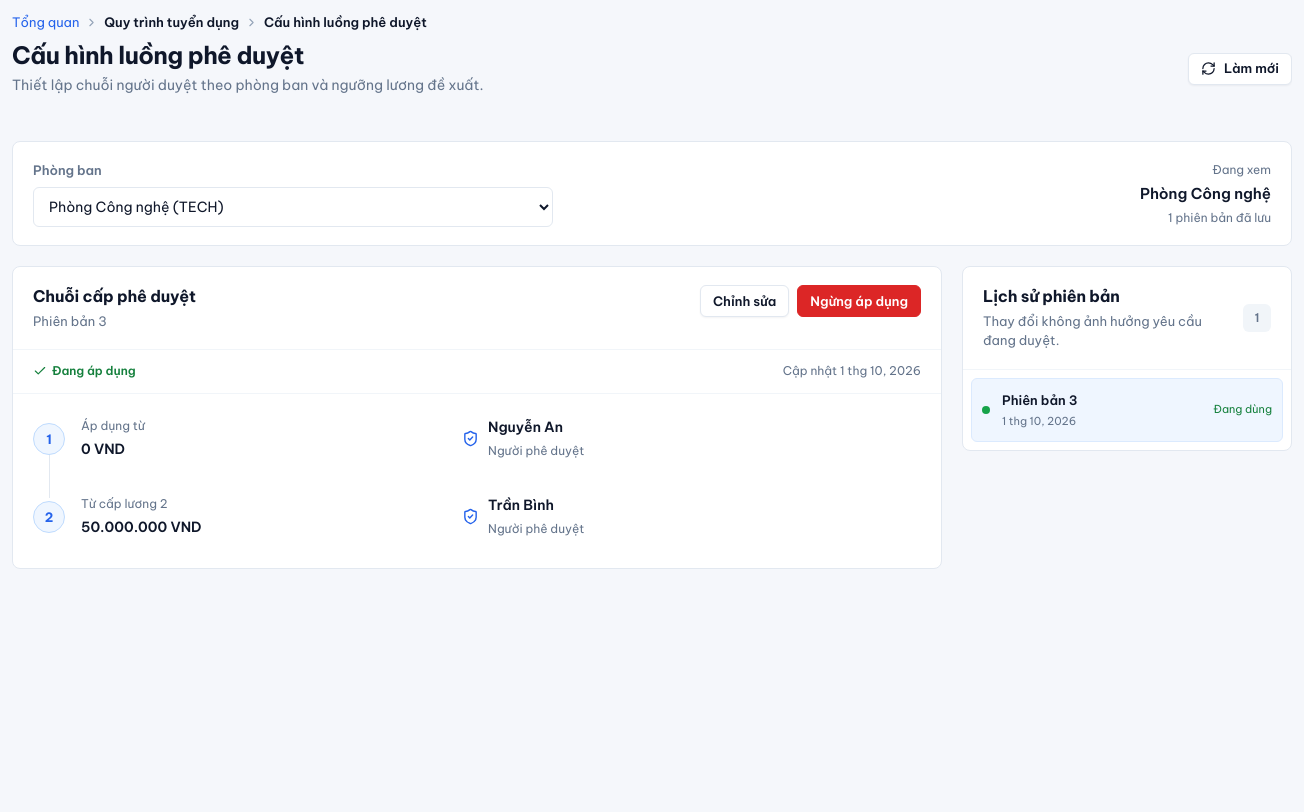
ApprovalConfigurationPage (S3-01) › blocks saving when salary thresholds are not strictly increasing
This screenshot has width=1304, height=812.
Click the button "Chỉnh sửa" at (745,301), box [700,285,789,317]
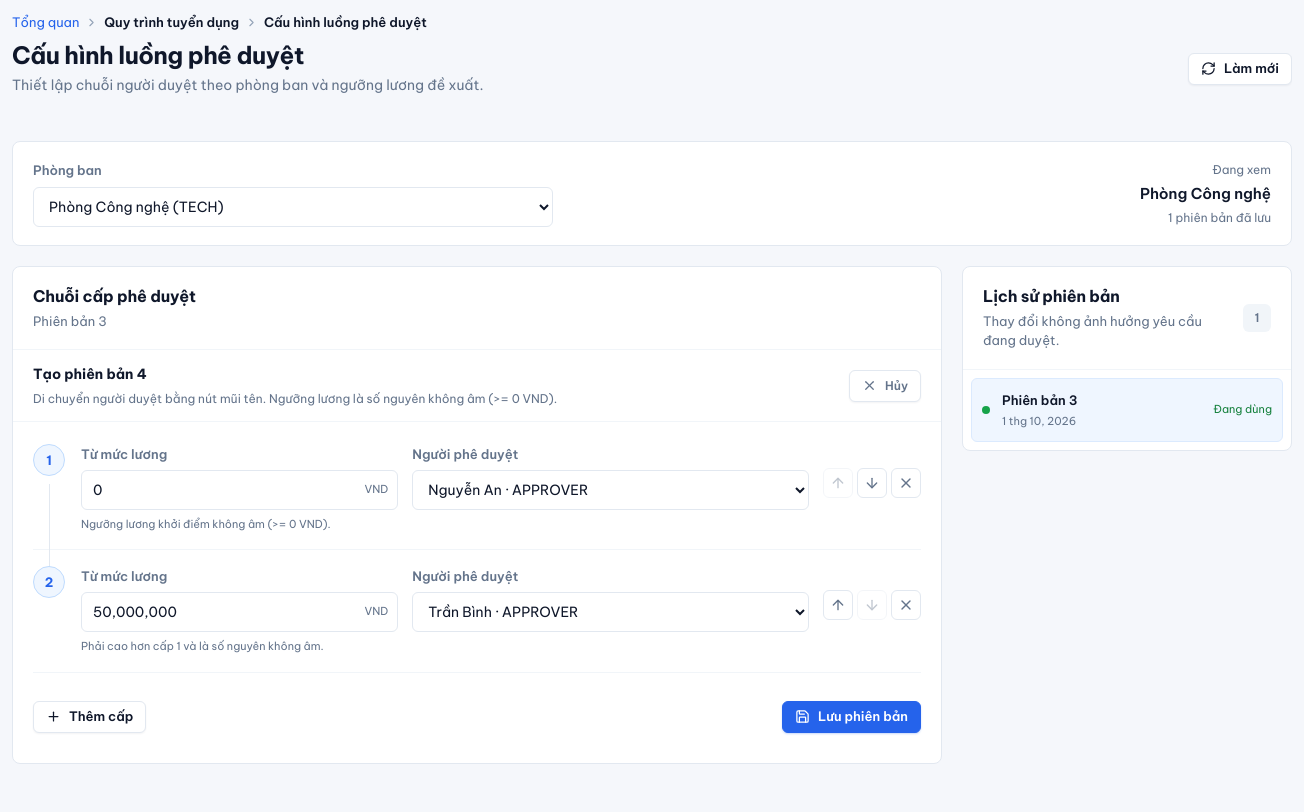
Replace the text in the 2nd field labelled "Từ mức lương" with "0" at (240,612), box [81,592,398,632]
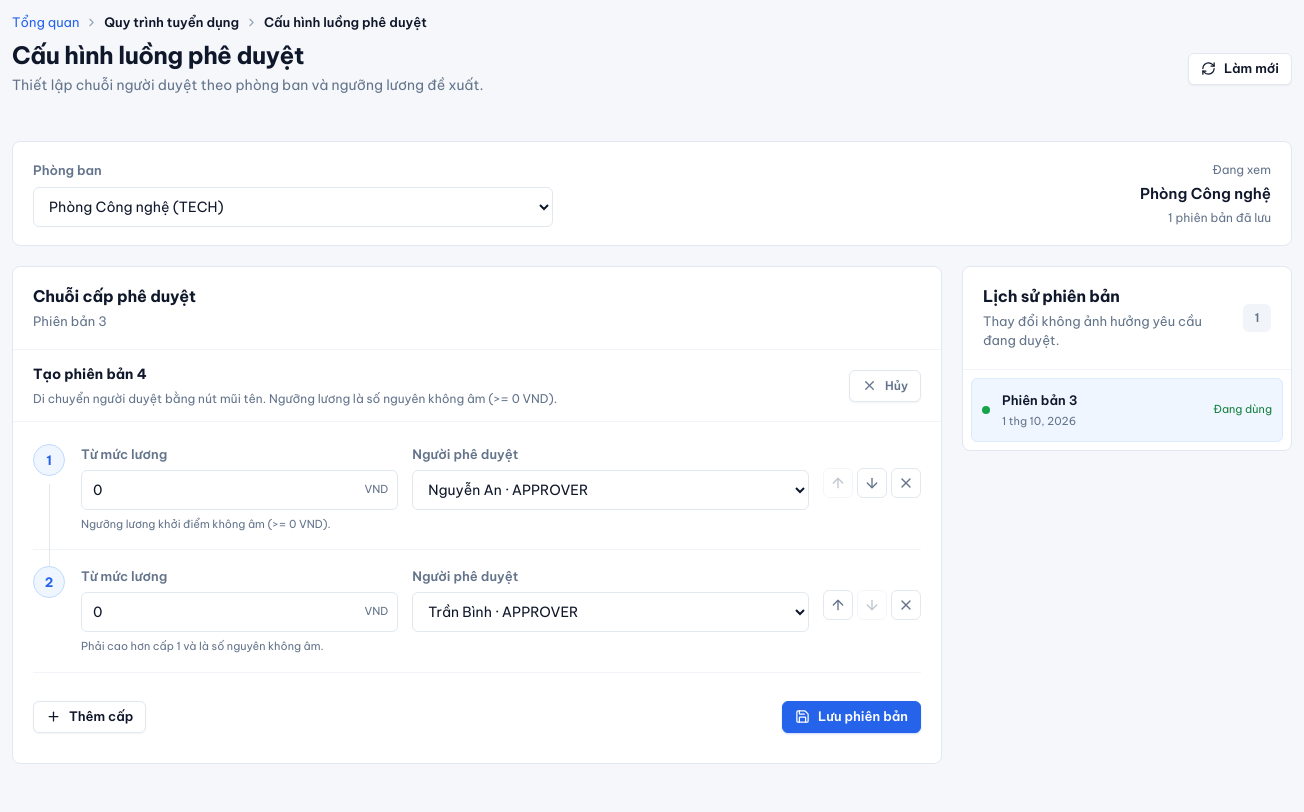
Click the button "Lưu phiên bản" at (852,716), box [782,700,921,732]
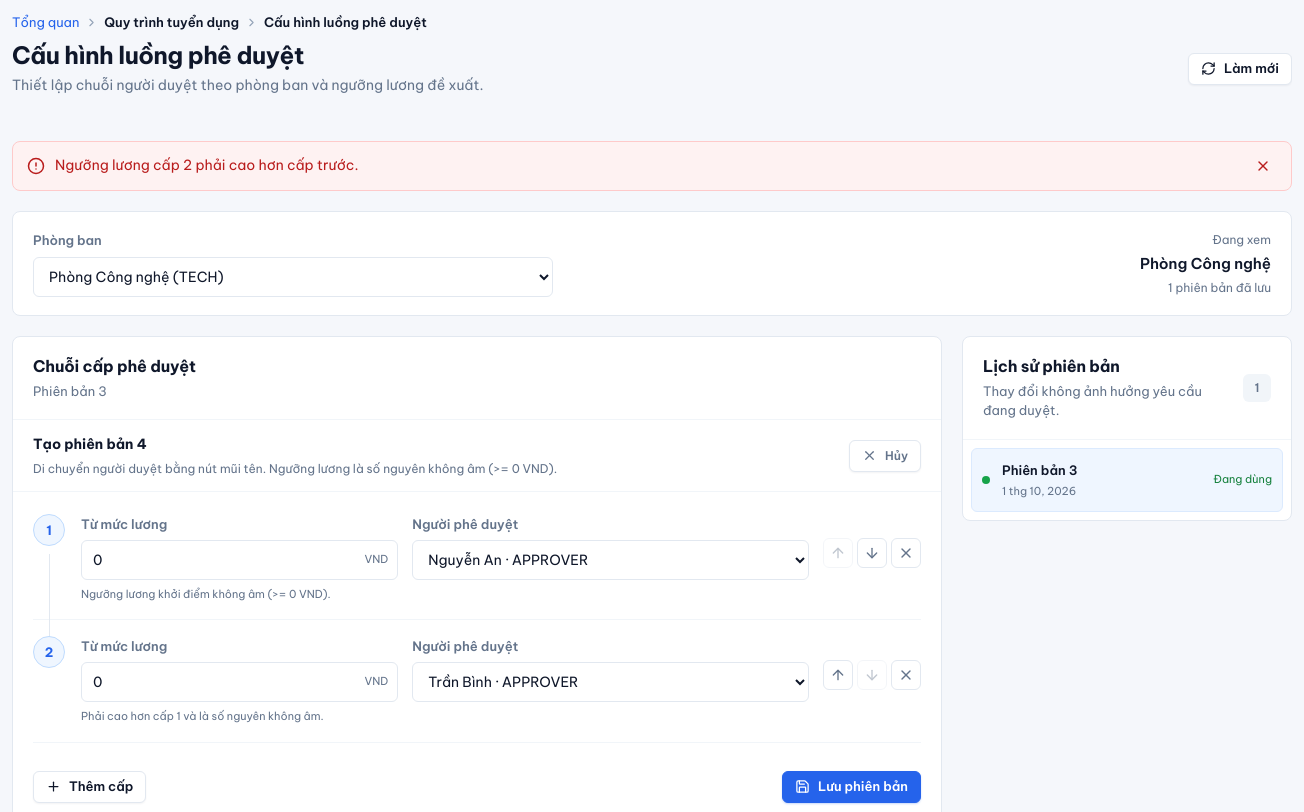
Expected: the message reads "Ngưỡng lương cấp 2 phải cao hơn cấp trước.", [55,156,358,174]
